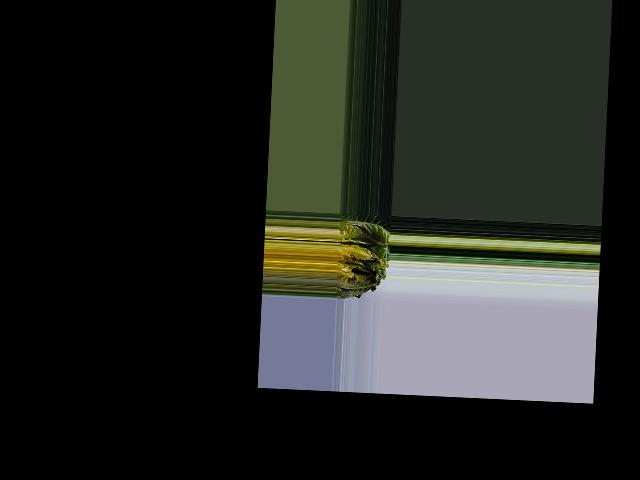lettuce: (335, 213, 389, 297)
